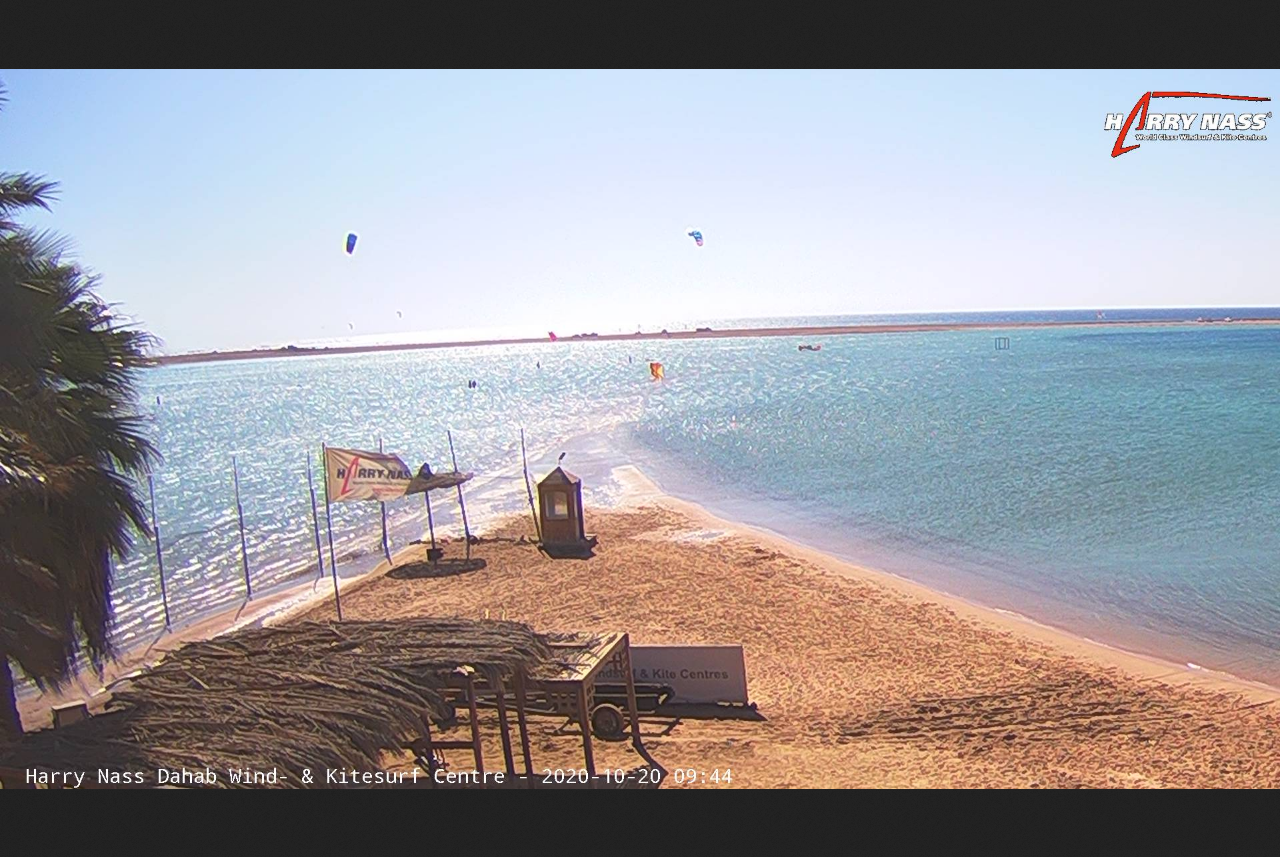yes: (323, 447, 418, 506)
